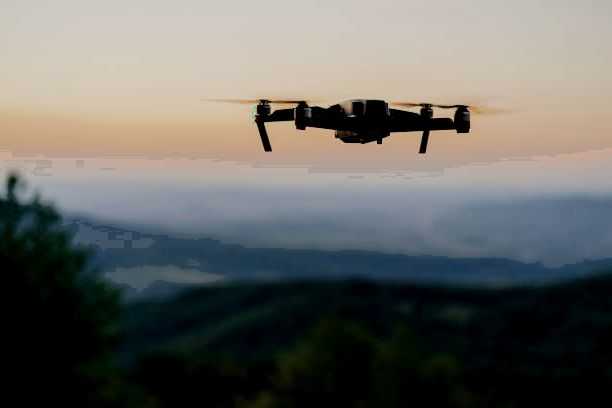Drone: (205, 87, 511, 163)
